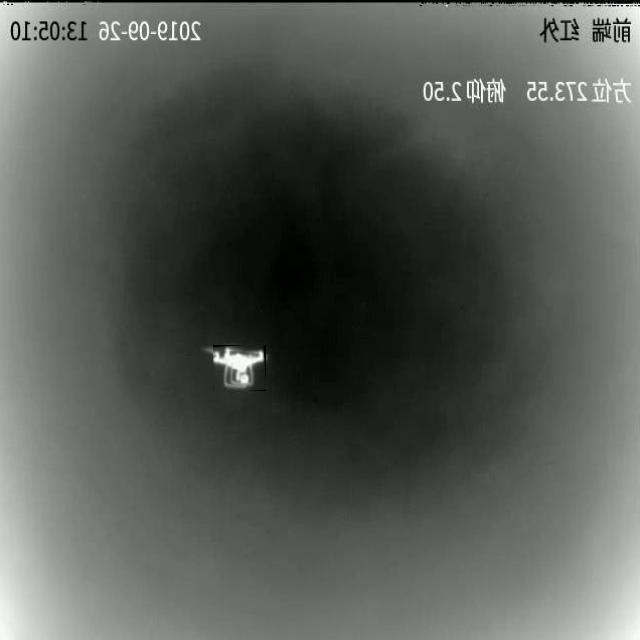drone: (213, 345, 266, 391)
